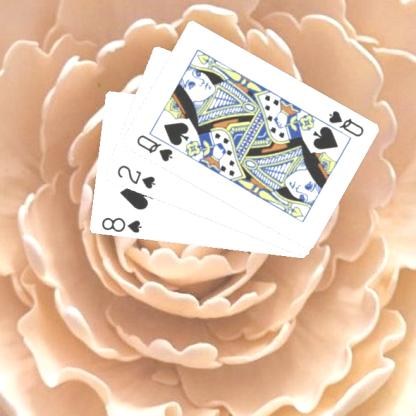2S: (114, 162, 157, 191)
8S: (98, 214, 144, 235)
QS: (133, 132, 174, 164), (325, 108, 365, 138)
